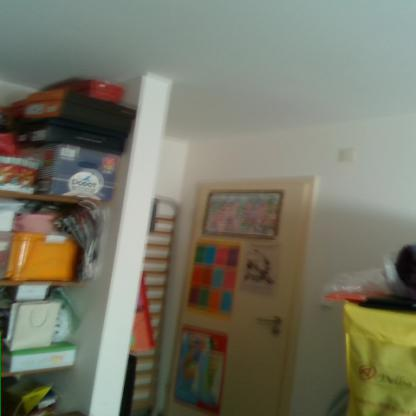door: (191, 184, 294, 415)
hinged: (164, 381, 174, 398), (192, 214, 195, 236)
lever: (255, 315, 282, 325)
